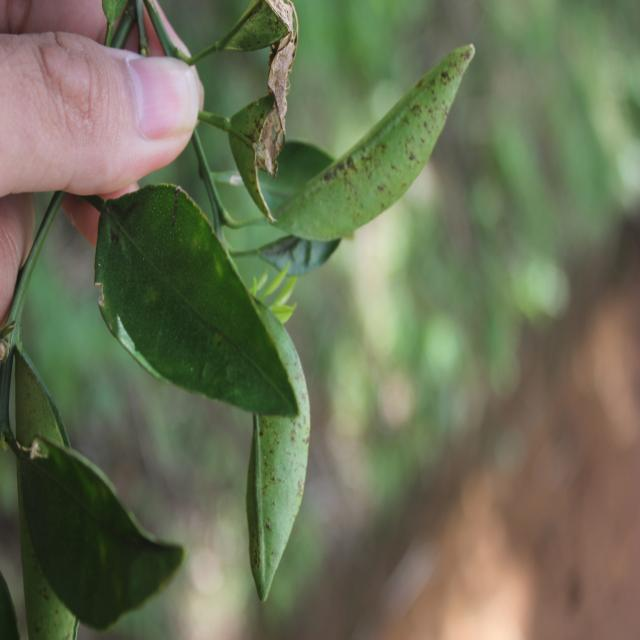melanose: (274, 35, 480, 264), (233, 314, 325, 594)
